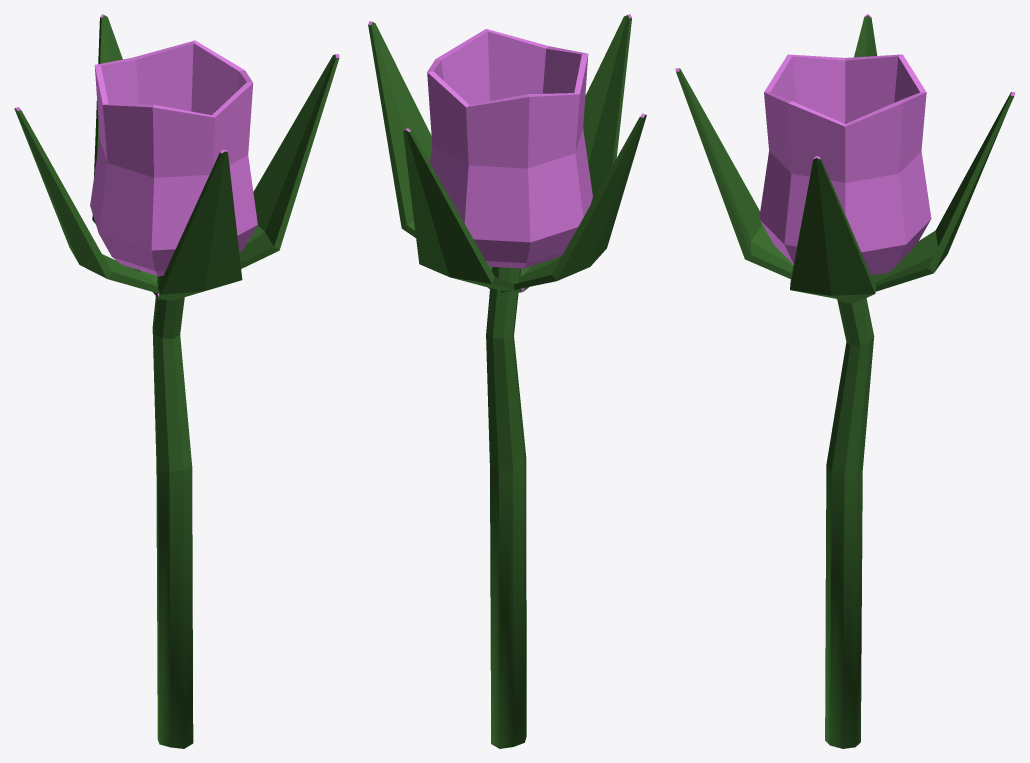
File: Flower_6.fbx
3 renders of one model, left to right at view 1: azimuth 30°, elevation 25°; view 2: azimuth 150°, elevation 25°; view 3: azimuth 270°, elevation 25°, orthographic. The views are drawn at different scales.
Visible parts, largest first — view 1: Flower.001; view 2: Flower.001; view 3: Flower.001.
Part boxes in pixels (left/top/right/bottom): Flower.001: left=14, top=14, right=339, bottom=748; Flower.001: left=368, top=14, right=646, bottom=748; Flower.001: left=675, top=14, right=1015, bottom=748.
Size of the model in its own units: 67.78 by 146 by 67.63.
